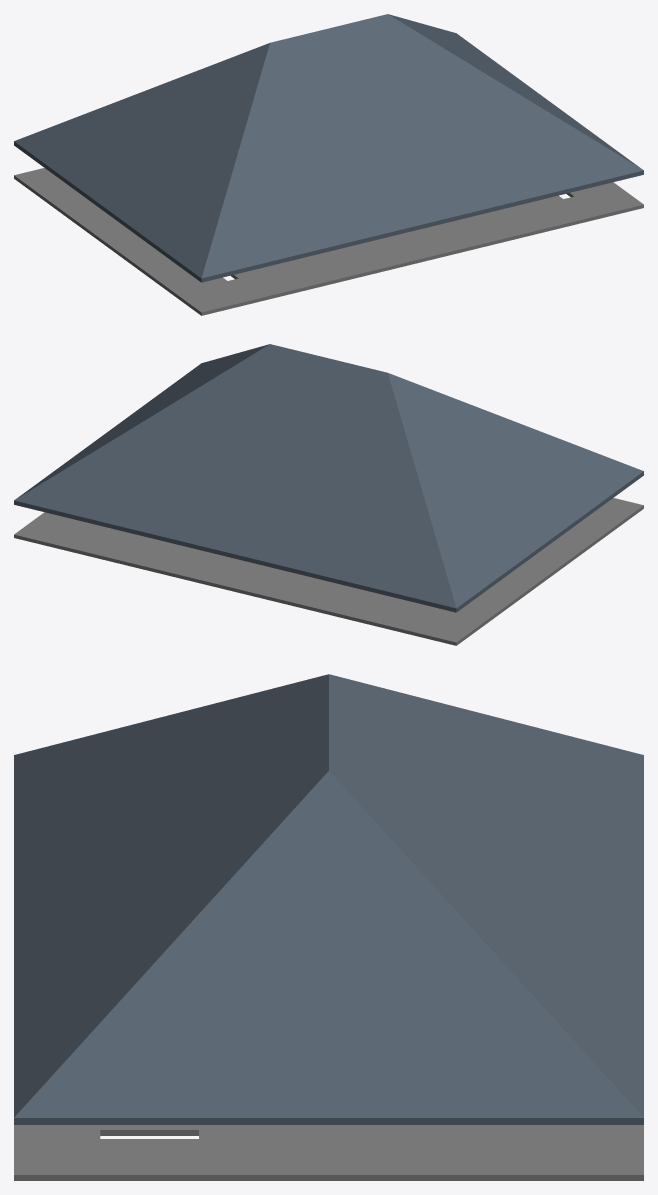
File: testscene_Level_2_IfcSlab.dae
3 renders of one model, top to bottom at view 1: azimuth 30°, elevation 25°; view 2: azimuth 150°, elevation 25°; view 3: azimuth 270°, elevation 25°, orthographic. The views are drawn at different scales.
Parts seen in each view (by area): view 1: 3Hkgb02ir8gvHVysl4Chft, 3Hkgb02ir8gvHVysp4Chft, 3Hkgb02ir8gvHVys$4Chks, 3Hkgb02ir8gvHVysh4Chft; view 2: 3Hkgb02ir8gvHVyst4Chft, 3Hkgb02ir8gvHVysp4Chft, 3Hkgb02ir8gvHVys$4Chks, 3Hkgb02ir8gvHVysh4Chft; view 3: 3Hkgb02ir8gvHVysh4Chft, 3Hkgb02ir8gvHVysl4Chft, 3Hkgb02ir8gvHVyst4Chft, 3Hkgb02ir8gvHVys$4Chks.
Boxes of the visible parts, x1,y1,x2,y2 form: 3Hkgb02ir8gvHVysl4Chft: (201, 14, 643, 282); 3Hkgb02ir8gvHVysp4Chft: (14, 43, 269, 282); 3Hkgb02ir8gvHVys$4Chks: (14, 168, 643, 315); 3Hkgb02ir8gvHVysh4Chft: (388, 14, 642, 169); 3Hkgb02ir8gvHVyst4Chft: (14, 344, 456, 612); 3Hkgb02ir8gvHVysp4Chft: (388, 373, 643, 612); 3Hkgb02ir8gvHVys$4Chks: (14, 498, 643, 645); 3Hkgb02ir8gvHVysh4Chft: (15, 344, 269, 499); 3Hkgb02ir8gvHVysh4Chft: (14, 771, 643, 1124); 3Hkgb02ir8gvHVysl4Chft: (14, 674, 328, 1117); 3Hkgb02ir8gvHVyst4Chft: (329, 674, 643, 1117); 3Hkgb02ir8gvHVys$4Chks: (14, 1125, 643, 1180).
Bounding box in the file's own units: 41.25 × 30.28 × 14.69.
